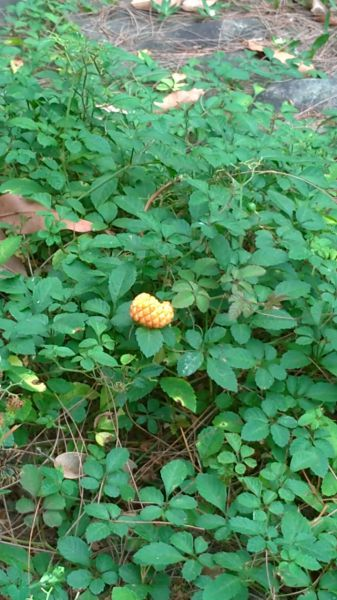eggs: (123, 287, 179, 334)
